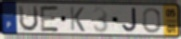3: (92, 6, 110, 34)
E: (39, 5, 61, 33)
J: (121, 7, 137, 34)
K: (69, 6, 87, 33)
O: (141, 7, 162, 35)
U: (17, 4, 40, 33)
